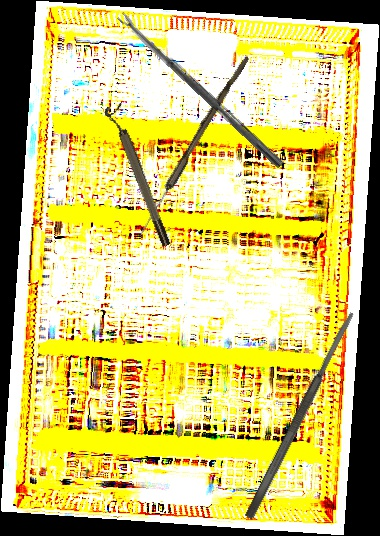Fixation Ring: (102, 102, 174, 250)
Spatula Surgical: (242, 310, 359, 521)
Surgical Spoon: (117, 11, 285, 169), (136, 53, 250, 239)
